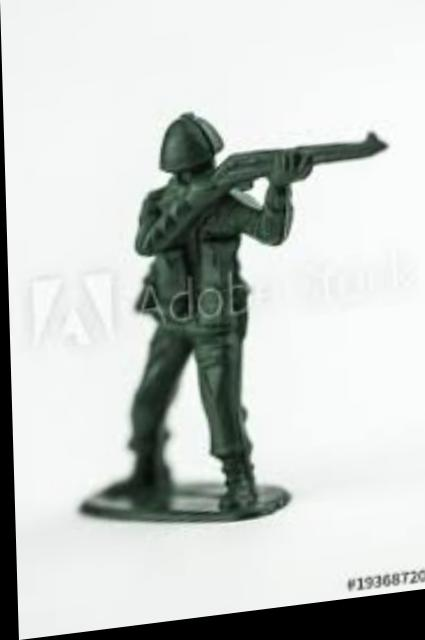other: (114, 88, 316, 533)
